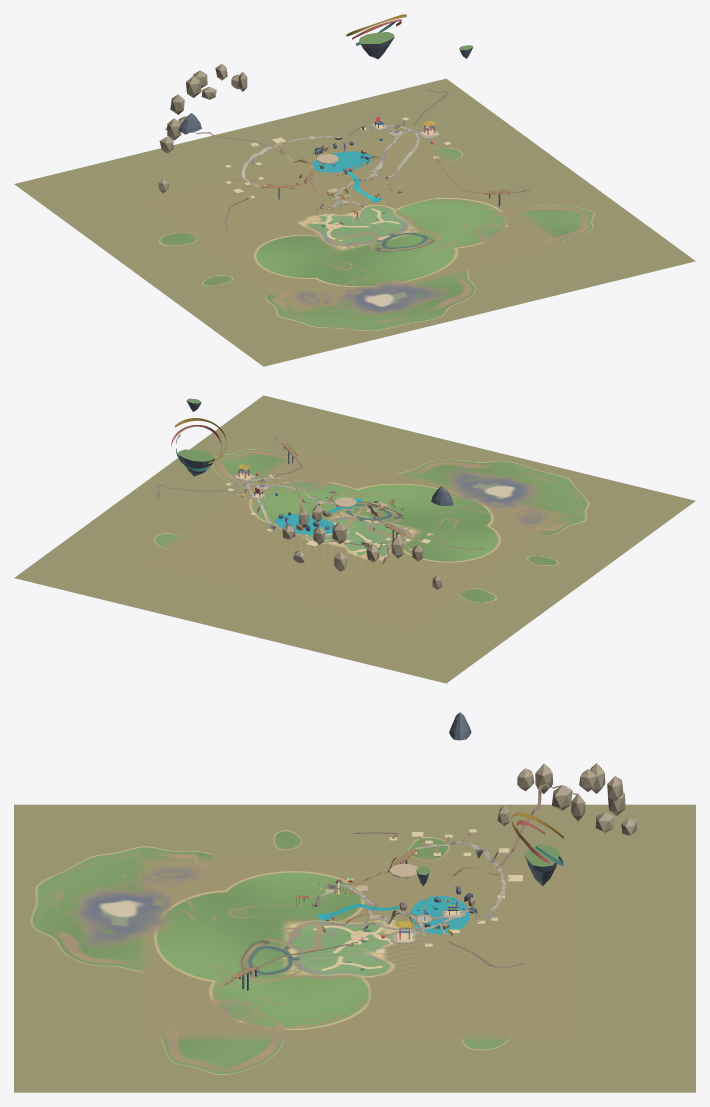
Rendered from world-web.glb.
3 renders of one model, top to bottom at view 1: azimuth 30°, elevation 25°; view 2: azimuth 150°, elevation 25°; view 3: azimuth 270°, elevation 25°, orthographic. The views are drawn at different scales.
Visible parts, largest first — view 1: Terrain71.material-carrier, World66.stone, World66.dark, Road64.Top.mortar, LakeWater65, Road64.Paving.stone-cream, Road64.Paving.stone-warm, World66.soil.Walkable; view 2: Terrain71.material-carrier, World66.stone, World66.dark, LakeWater65, World66.soil.Walkable, Road64.Top.mortar; view 3: Terrain71.material-carrier, World66.stone, Road64.Top.mortar, LakeWater65, World66.dark, World66.soil.Walkable, Road64.Paving.stone-cream, Road64.Paving.stone-warm, World66.grass.
Boxes of the visible parts, x1,y1,x2,y2 form: Terrain71.material-carrier: (14, 78, 695, 366); World66.stone: (158, 64, 247, 192); World66.dark: (178, 37, 509, 206); Road64.Top.mortar: (241, 120, 440, 207); LakeWater65: (312, 151, 372, 172); Road64.Paving.stone-cream: (235, 124, 439, 206); Road64.Paving.stone-warm: (239, 121, 440, 202); World66.soil.Walkable: (165, 89, 530, 233); Terrain71.material-carrier: (14, 395, 695, 683); World66.stone: (282, 505, 442, 589); World66.dark: (178, 401, 453, 539); LakeWater65: (275, 514, 334, 534); World66.soil.Walkable: (157, 437, 484, 565); Road64.Top.mortar: (230, 472, 407, 547); Terrain71.material-carrier: (14, 804, 695, 1092); World66.stone: (497, 763, 636, 835); Road64.Top.mortar: (315, 841, 510, 944); LakeWater65: (410, 896, 469, 934); World66.dark: (239, 712, 556, 990); World66.soil.Walkable: (224, 783, 576, 985); Road64.Paving.stone-cream: (323, 837, 507, 943); Road64.Paving.stone-warm: (319, 838, 505, 943); World66.grass: (416, 844, 559, 874).
Size of the model in its own units: 480 by 148 by 480.
67 materials, 1 textured.
